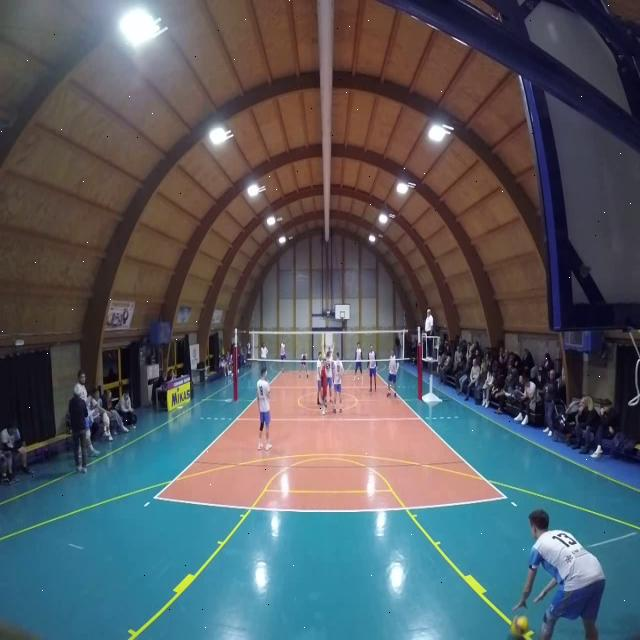Volleyball: (510, 614, 530, 636)
